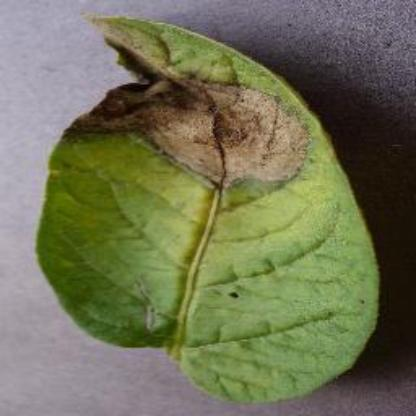Late-Blight: (35, 6, 391, 406)
